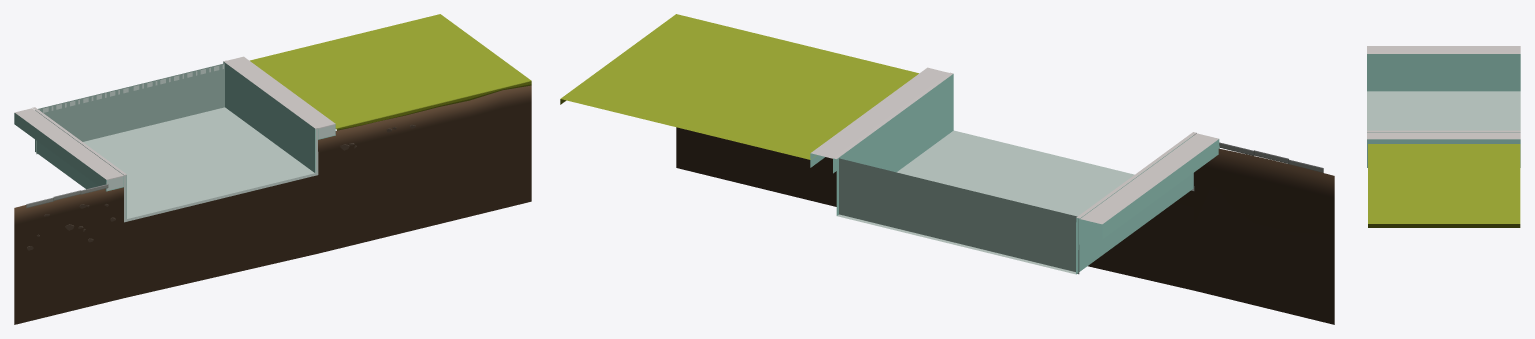
The model's file is ground_backyard.FBX.
3 renders of one model, left to right at view 1: azimuth 30°, elevation 25°; view 2: azimuth 150°, elevation 25°; view 3: azimuth 270°, elevation 25°, orthographic. The views are drawn at different scales.
Parts seen in each view (by area): view 1: ground_backyard; view 2: ground_backyard; view 3: ground_backyard.
Part boxes in pixels (left/top/right/bottom): ground_backyard: left=14, top=14, right=531, bottom=324; ground_backyard: left=560, top=14, right=1334, bottom=324; ground_backyard: left=1367, top=46, right=1520, bottom=227.
Bounding box in the file's own units: 1973 × 462 × 621.
1 material, 1 textured.
